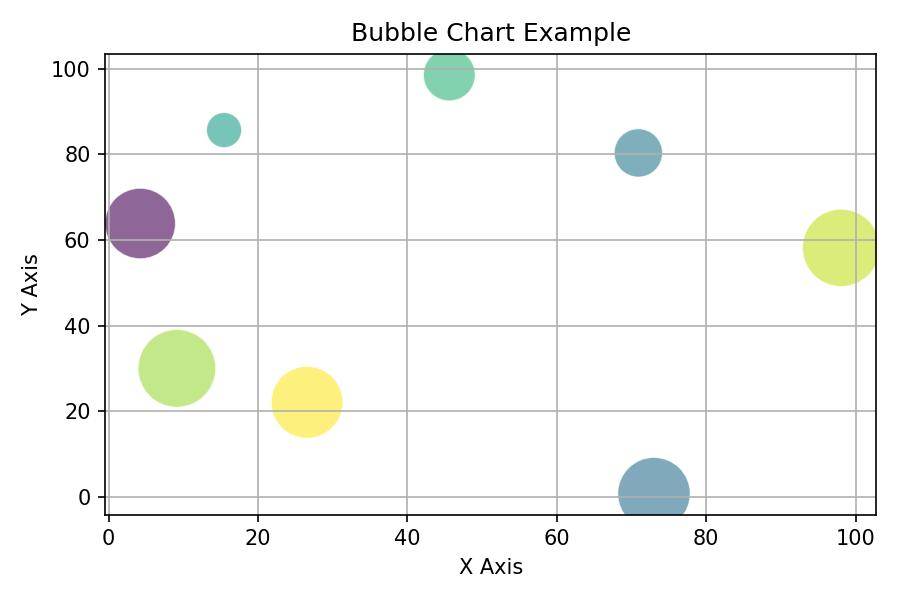axis: (70, 503, 884, 555), (50, 44, 114, 542)
circle: (140, 332, 217, 406), (804, 208, 872, 288), (105, 189, 177, 260), (274, 365, 342, 440), (620, 458, 689, 513), (614, 126, 663, 178), (424, 54, 476, 100), (209, 110, 240, 147)
